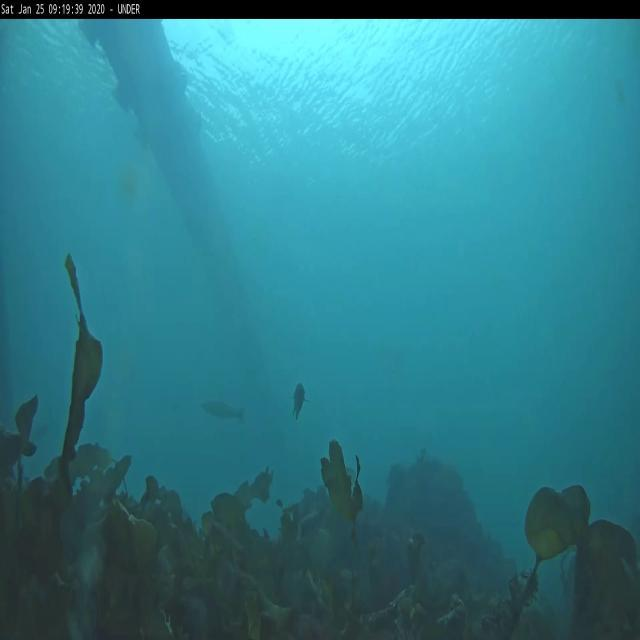fish: (199, 400, 248, 416), (291, 379, 306, 419)
